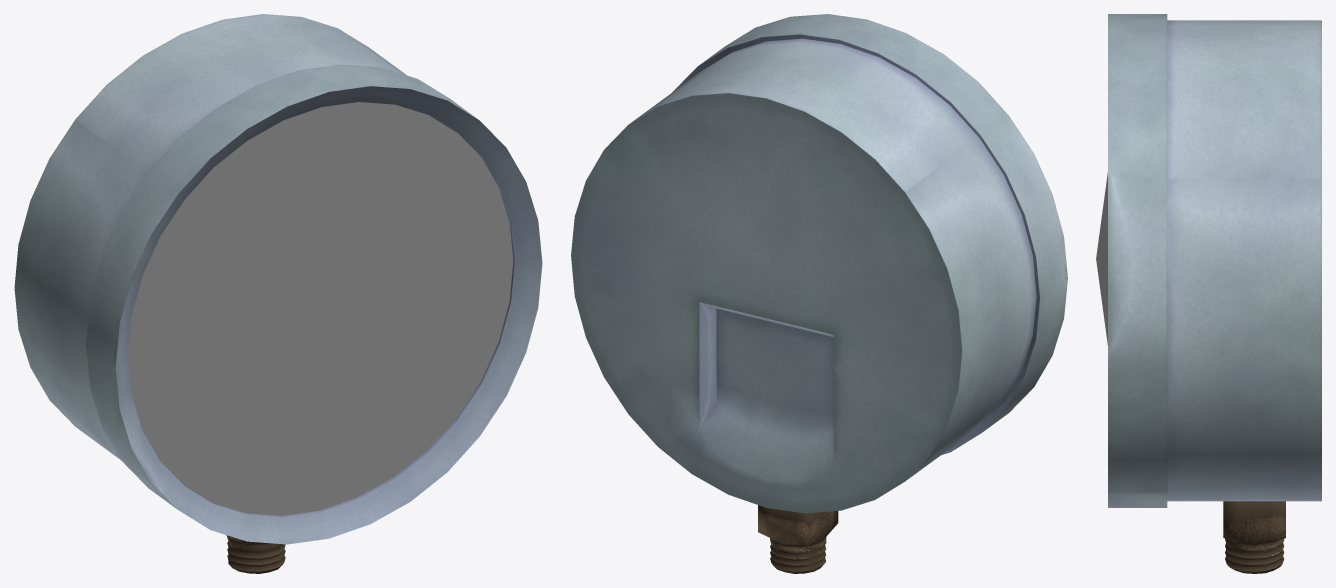
Rendered from Gage_O_.fbx.
3 views of the same model, side by side, from view 1: azimuth 30°, elevation 25°; view 2: azimuth 150°, elevation 25°; view 3: azimuth 270°, elevation 25° (orthographic). The views are drawn at different scales.
Parts seen in each view (by area): view 1: Glass, Budy; view 2: Budy; view 3: Budy, Glass.
Part boxes in pixels (x1,y1,x2,y2): Glass: [128, 102, 513, 515]; Budy: [14, 14, 542, 573]; Budy: [571, 14, 1067, 573]; Budy: [1108, 14, 1321, 573]; Glass: [1096, 172, 1107, 344].
Size of the model in its own units: 11.27 by 13.22 by 5.15.
